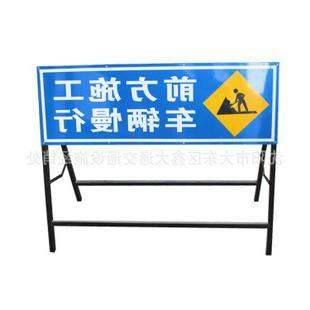sign: (36, 64, 279, 144)
